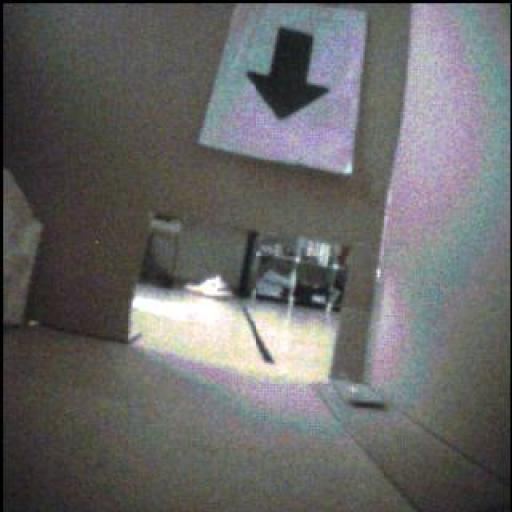arrow: (247, 29, 329, 120)
